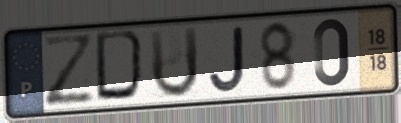0: (311, 16, 350, 89)
8: (257, 19, 300, 93)
D: (93, 28, 150, 105)
J: (206, 23, 247, 95)
U: (147, 23, 201, 102)
Z: (40, 32, 98, 111)
